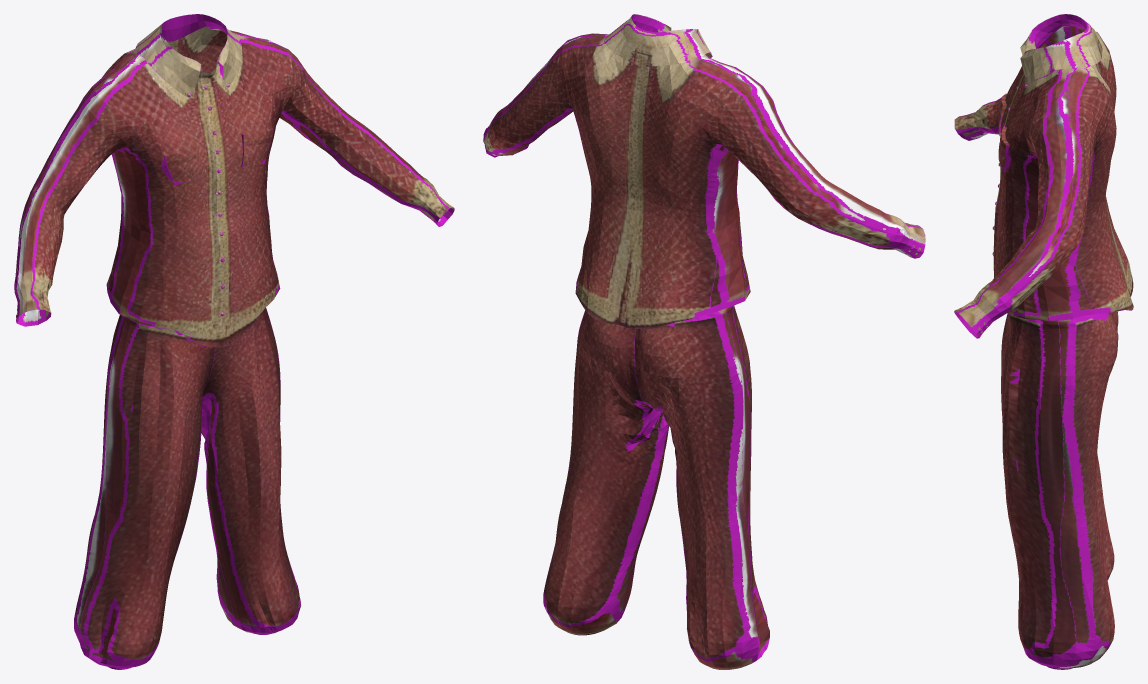
3 renders of one model, left to right at view 1: azimuth 30°, elevation 25°; view 2: azimuth 150°, elevation 25°; view 3: azimuth 270°, elevation 25°, orthographic. The views are drawn at different scales.
Size of the model in its own units: 0.8323 by 1.13 by 0.3039.
Materials: 1 (1 with a texture image).
